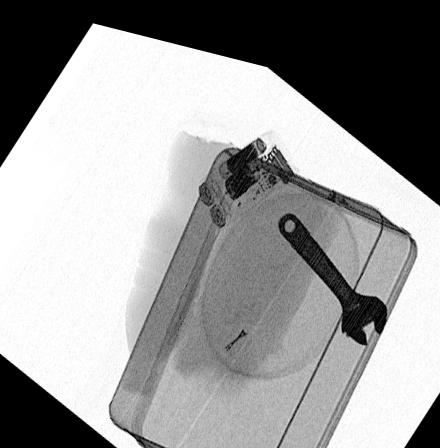Wrench: (276, 194, 388, 328)
